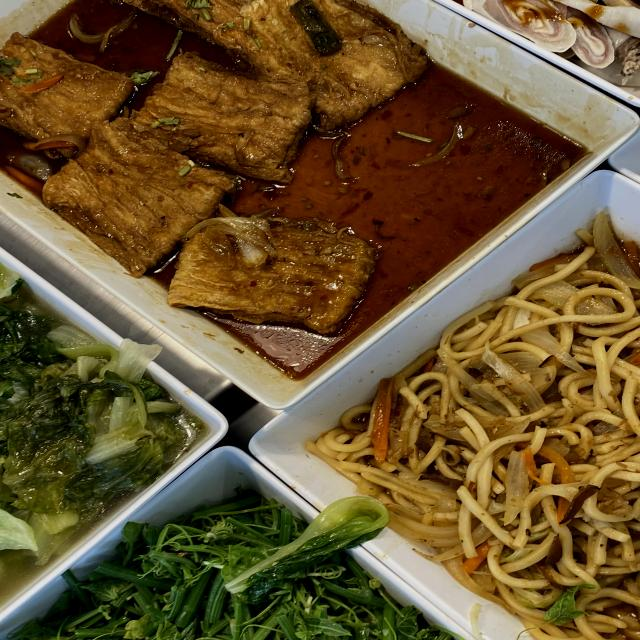bean bag: (37, 25, 380, 201)
